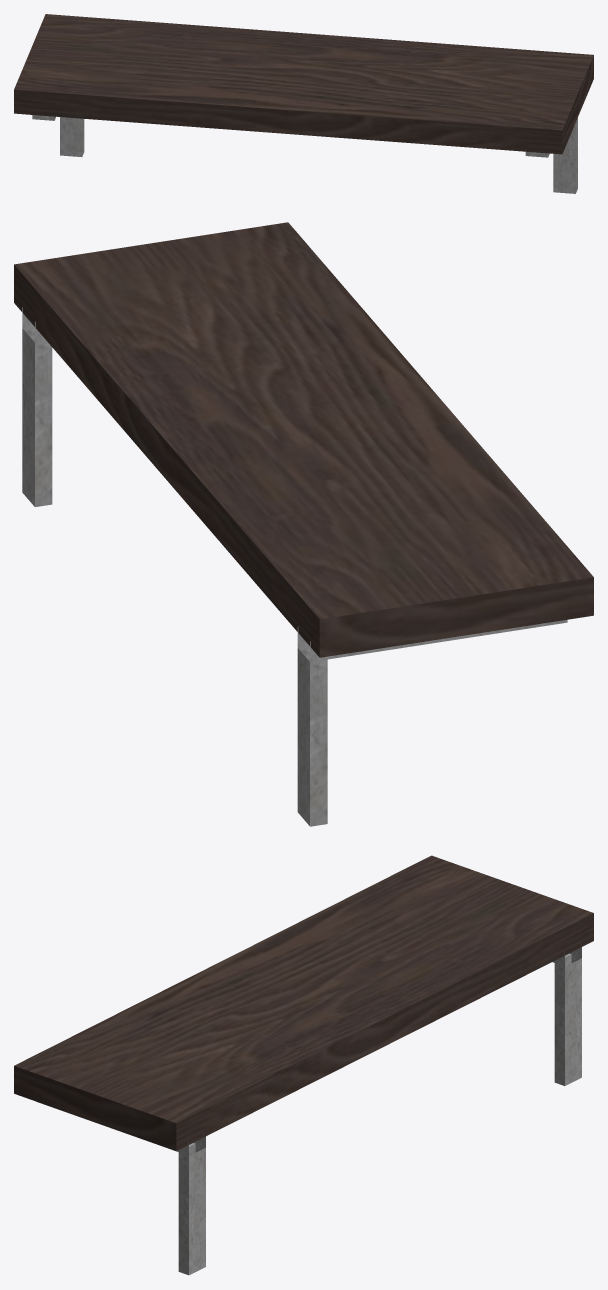
3 renders of one model, top to bottom at view 1: azimuth 30°, elevation 25°; view 2: azimuth 150°, elevation 25°; view 3: azimuth 270°, elevation 25°, orthographic. The views are drawn at different scales.
Visible parts, largest first — view 1: Shelf_01005_Wood_08001_0, Shelf_01005_Metal_01001_0; view 2: Shelf_01005_Wood_08001_0, Shelf_01005_Metal_01001_0; view 3: Shelf_01005_Wood_08001_0, Shelf_01005_Metal_01001_0.
Boxes of the visible parts, box(x1,y1,x2,y2) form: Shelf_01005_Wood_08001_0: box(14, 14, 593, 154); Shelf_01005_Metal_01001_0: box(32, 115, 577, 193); Shelf_01005_Wood_08001_0: box(14, 222, 593, 657); Shelf_01005_Metal_01001_0: box(22, 307, 567, 826); Shelf_01005_Wood_08001_0: box(14, 855, 593, 1151); Shelf_01005_Metal_01001_0: box(37, 943, 581, 1275).
Size of the model in its own units: 0.7979 by 0.2197 by 0.73.
Materials: 2 (2 with a texture image).
